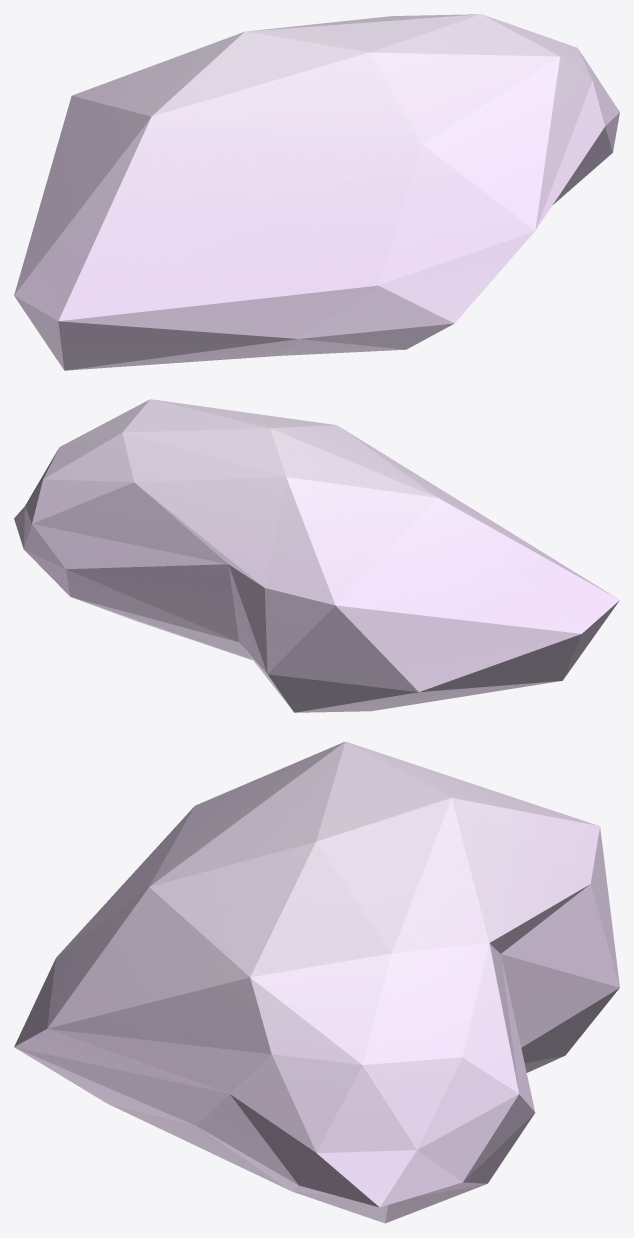
The model's file is Night_Cloud_001.FBX.
3 renders of one model, top to bottom at view 1: azimuth 30°, elevation 25°; view 2: azimuth 150°, elevation 25°; view 3: azimuth 270°, elevation 25°, orthographic. The views are drawn at different scales.
Visible parts, largest first — view 1: Night_Cloud_001; view 2: Night_Cloud_001; view 3: Night_Cloud_001.
Boxes of the visible parts, x1=… form: Night_Cloud_001: x1=14, y1=14, x2=619, y2=370; Night_Cloud_001: x1=14, y1=399, x2=619, y2=712; Night_Cloud_001: x1=14, y1=741, x2=619, y2=1223.
Size of the model in its own units: 1925 by 733 by 1252.
1 material, 1 textured.
